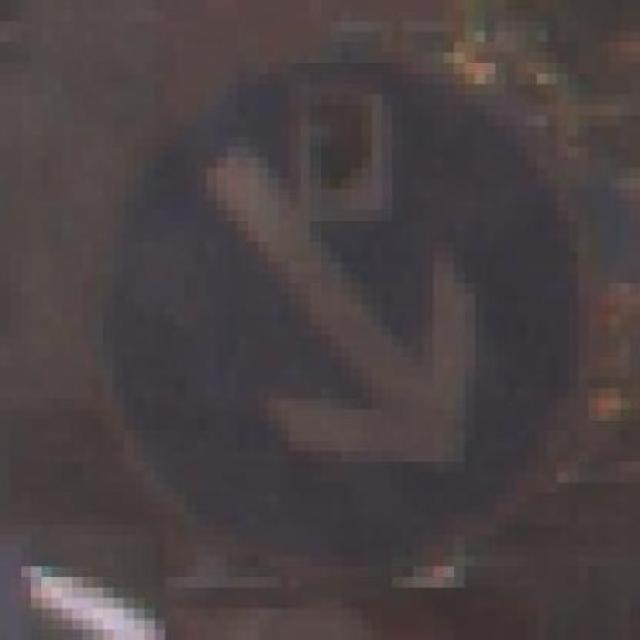Keep-Right: (72, 30, 598, 588)
